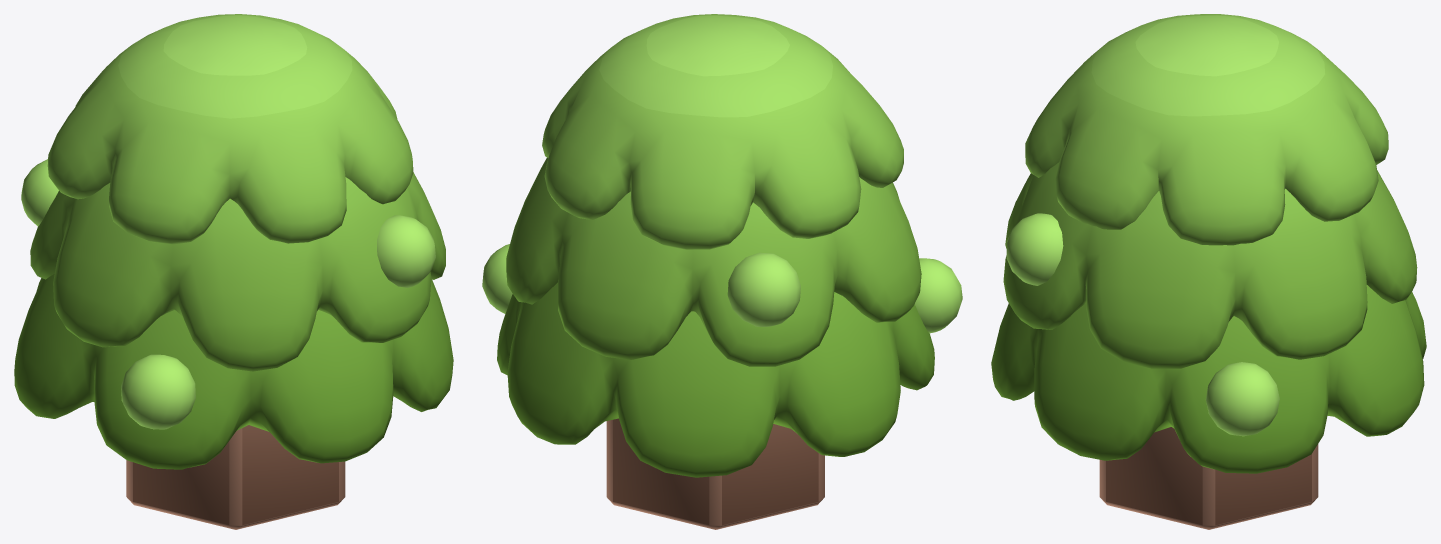
File: big_leafs_tree_apple_green.fbx
The picture shows the model from 3 angles, left to right: view 1: azimuth 30°, elevation 25°; view 2: azimuth 150°, elevation 25°; view 3: azimuth 270°, elevation 25°; orthographic projection.
Visible parts, largest first — view 1: big_leafs_tree_apple_green, apples_green; view 2: big_leafs_tree_apple_green, apples_green; view 3: big_leafs_tree_apple_green, apples_green.
Part boxes in pixels (x1,y1,x2,y2): big_leafs_tree_apple_green: (14, 14, 453, 529); apples_green: (21, 159, 435, 429); big_leafs_tree_apple_green: (497, 14, 934, 529); apples_green: (482, 244, 962, 333); big_leafs_tree_apple_green: (991, 14, 1426, 529); apples_green: (1006, 213, 1279, 436).
Size of the model in its own units: 252 by 267 by 237.
